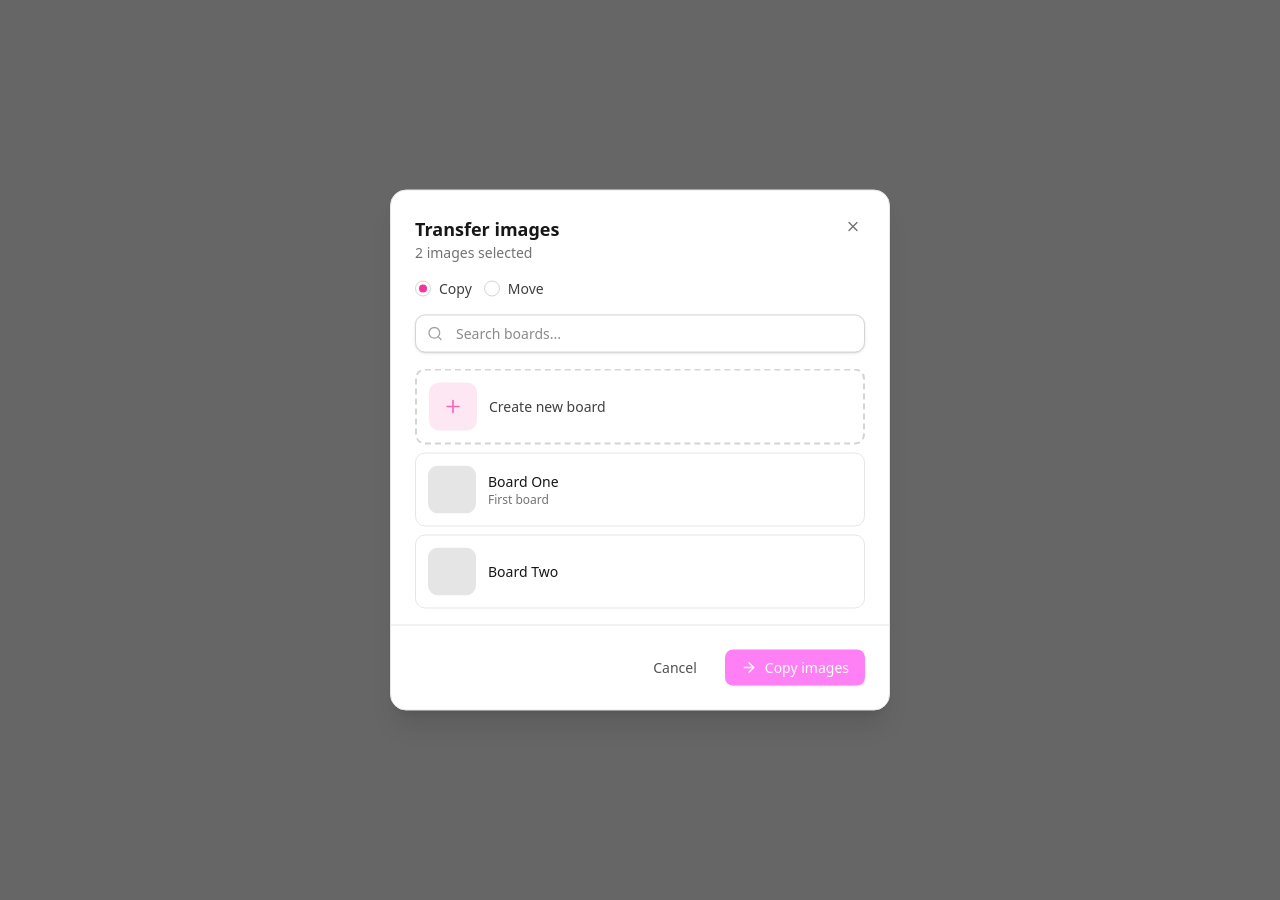
Scenario: TransferImagesDialog › enables transfer button when a board is selected
Click the text "Board One".
click(523, 481)  # box x1=488 y1=472 x2=559 y2=490
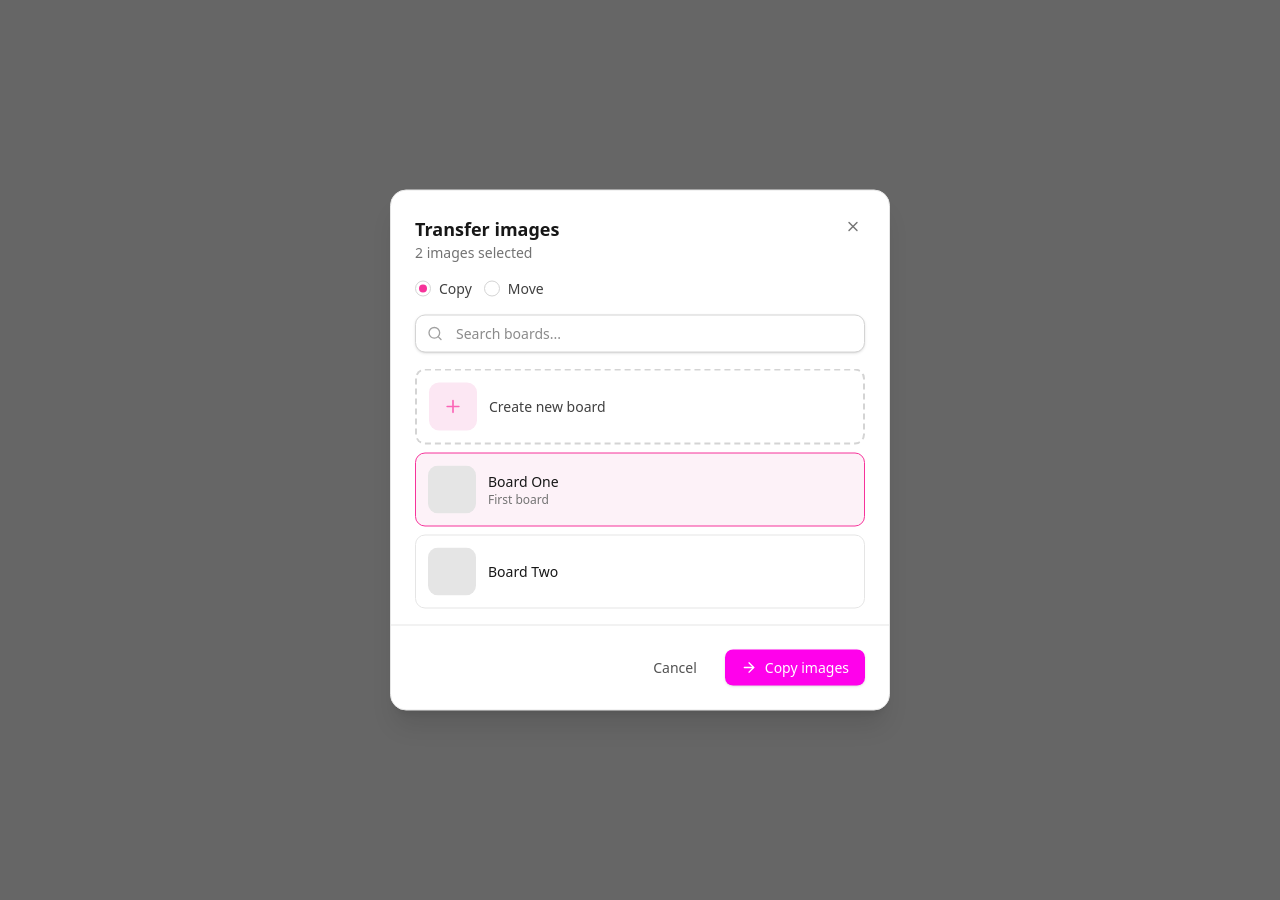
Expected: the button "Copy images" is enabled, x1=725 y1=650 x2=865 y2=686
